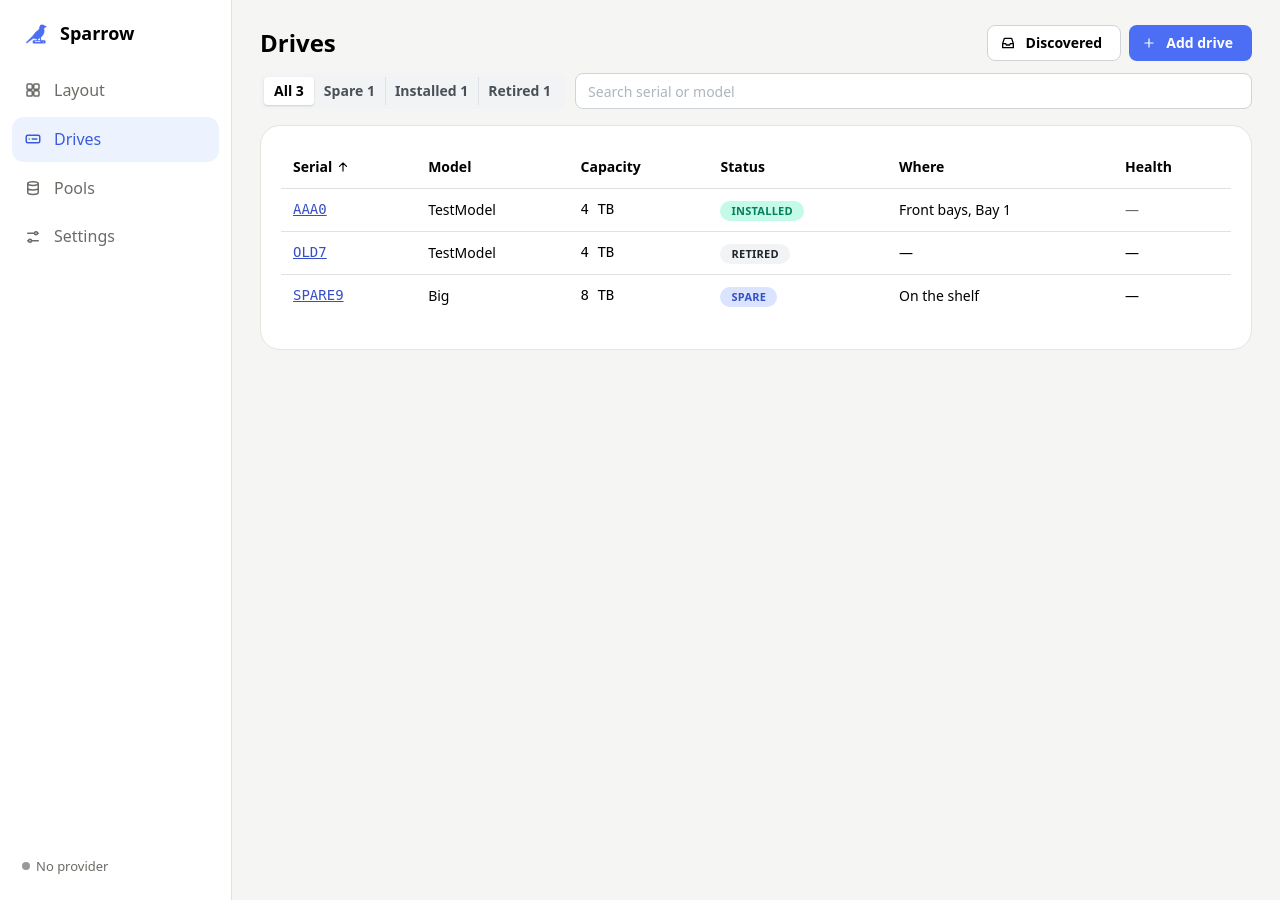
Drives page (R11, R13) › requires a serial number
Click the button "Add drive" at [1191, 43], box [1129,25,1252,61]
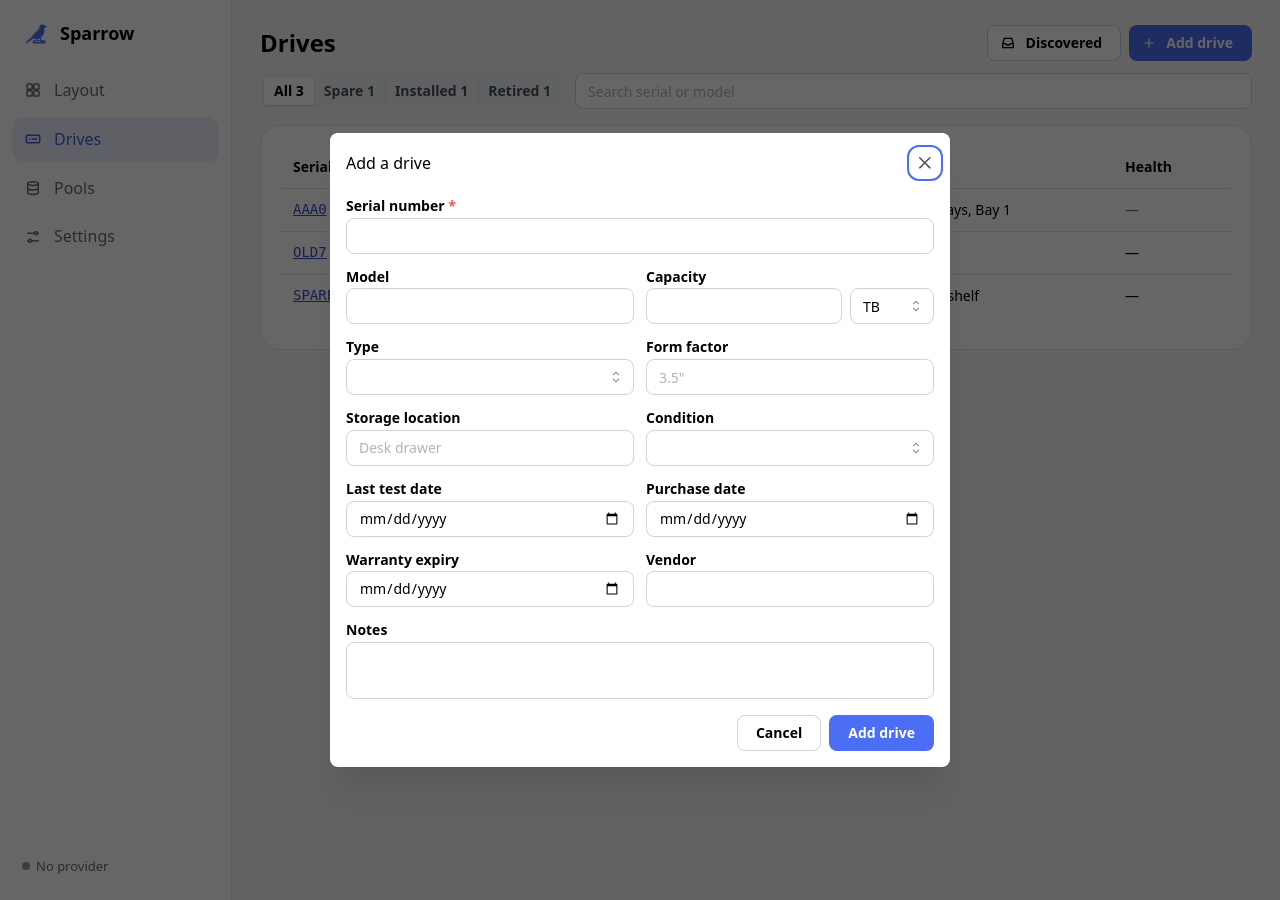
Click the button "Add drive" at [882, 733], box [829,715,934,751]
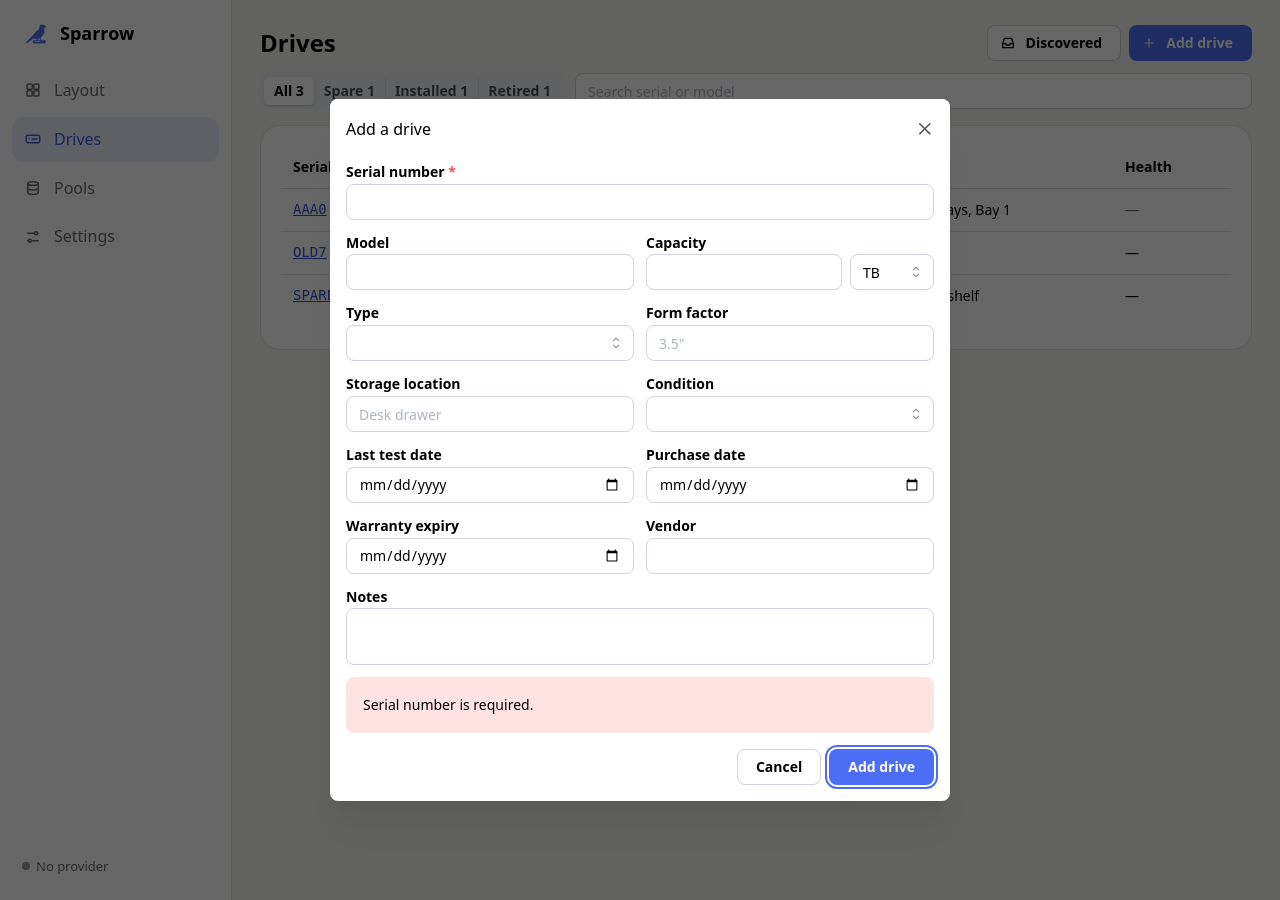
Expected: the text "Serial number is required." is shown, [363,695,533,714]
